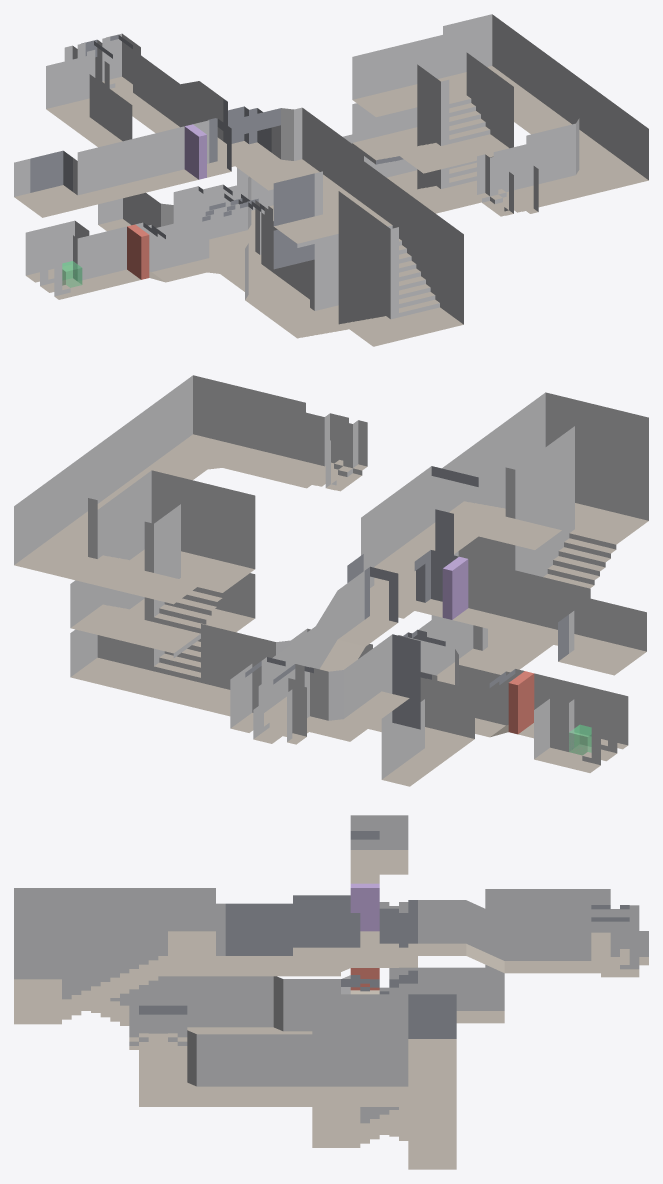
File: outpost_10.glb
3 renders of one model, top to bottom at view 1: azimuth 30°, elevation 25°; view 2: azimuth 150°, elevation 25°; view 3: azimuth 270°, elevation 25°, orthographic. The views are drawn at different scales.
Visible parts, largest first — view 1: room:7, room:6, corridor:0, corridor:7, corridor:6, corridor:4, room:1, corridor:1, corridor:2, corridor:3, room:5, room:2 (+13 smaller); view 2: room:6, room:7, corridor:0, corridor:7, corridor:4, corridor:6, corridor:3, corridor:5, room:2, room:5, corridor:2, corridor:1 (+13 smaller); view 3: room:7, corridor:0, room:6, corridor:6, corridor:3, corridor:7, corridor:2, room:5, room:0, room:1/cavern, room:4, entities (+5 smaller).
Boxes of the visible parts, box(x1,y1,x2,y2) form: room:7: box(273, 161, 463, 346); room:6: box(352, 35, 513, 213); corridor:0: box(443, 14, 648, 204); corridor:7: box(46, 58, 173, 231); corridor:6: box(240, 107, 363, 214); corridor:4: box(78, 126, 231, 205); room:1: box(173, 178, 272, 273); corridor:1: box(94, 219, 206, 287); corridor:2: box(220, 212, 314, 320); corridor:3: box(129, 56, 226, 147); room:5: box(14, 150, 91, 217); room:2: box(25, 220, 107, 299); room:6: box(70, 470, 255, 702); room:7: box(431, 392, 648, 658); corridor:0: box(14, 375, 305, 578); corridor:7: box(313, 634, 474, 786); corridor:4: box(415, 559, 590, 649); corridor:6: box(361, 466, 478, 595); corridor:3: box(272, 571, 397, 710); corridor:5: box(173, 624, 363, 733); room:2: box(534, 682, 628, 772); room:5: box(558, 598, 646, 675); corridor:2: box(408, 616, 534, 684); corridor:1: box(459, 665, 571, 738); room:7: box(14, 888, 215, 1034); corridor:0: box(139, 1005, 456, 1106); room:6: box(312, 994, 456, 1169); corridor:6: box(216, 895, 350, 976); corridor:3: box(408, 900, 581, 973); corridor:7: box(389, 889, 610, 1023); corridor:2: box(216, 976, 340, 1034); room:5: box(350, 815, 408, 874); room:0: box(129, 990, 187, 1057); room:1/cavern: box(341, 900, 417, 987); room:4: box(581, 905, 639, 977); entities: box(350, 883, 379, 990).
Size of the model in its own units: 61 by 17 by 66.
